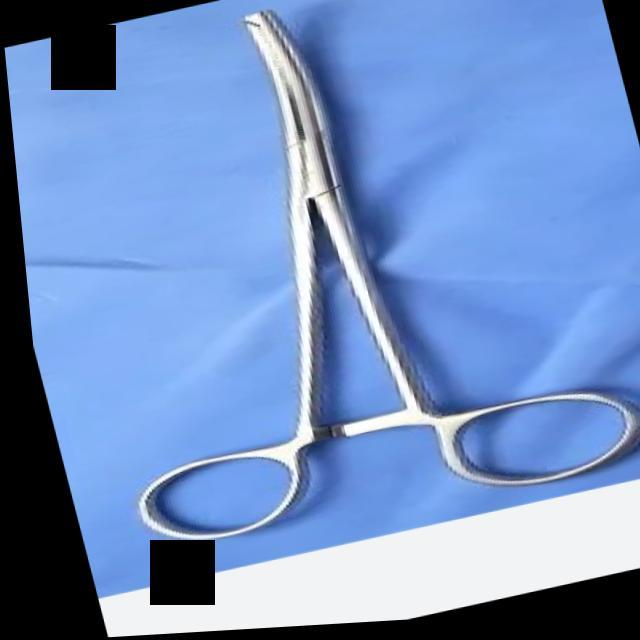Doyel Instestinal Forceps: (9, 0, 640, 575)
